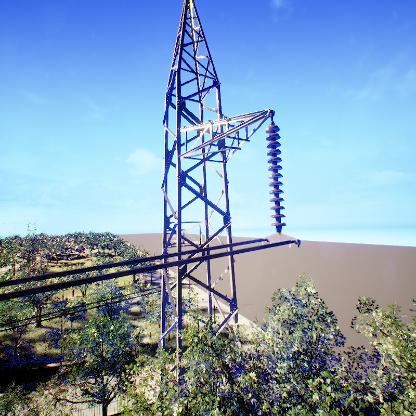insulator: (264, 124, 287, 234)
